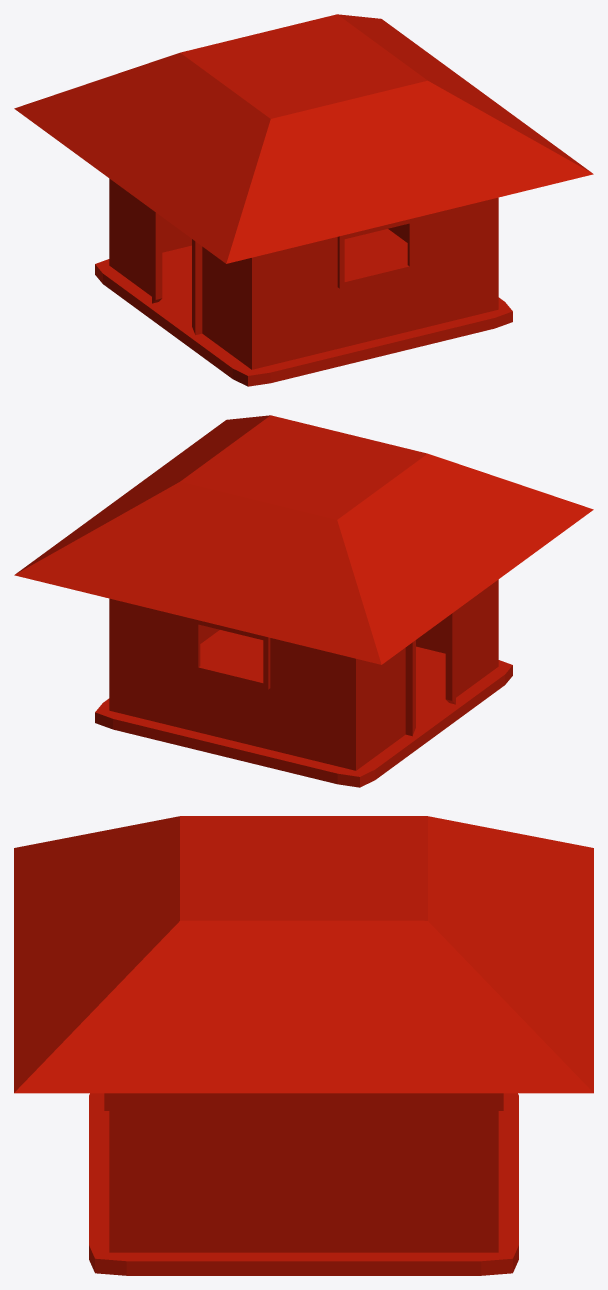
Rendered from Casa_Rodrigo_Materiais.fbx.
3 renders of one model, top to bottom at view 1: azimuth 30°, elevation 25°; view 2: azimuth 150°, elevation 25°; view 3: azimuth 270°, elevation 25°, orthographic. The views are drawn at different scales.
Visible parts, largest first — view 1: Plane.001; view 2: Plane.001; view 3: Plane.001.
Boxes of the visible parts, x1,y1,x2,y2 form: Plane.001: (14, 14, 593, 386); Plane.001: (14, 415, 593, 787); Plane.001: (14, 816, 593, 1275).
Size of the model in its own units: 894 by 539 by 894.
